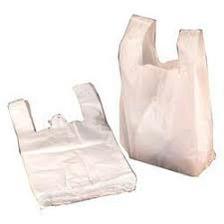plastic_bag: (112, 8, 224, 179), (4, 78, 143, 213)
